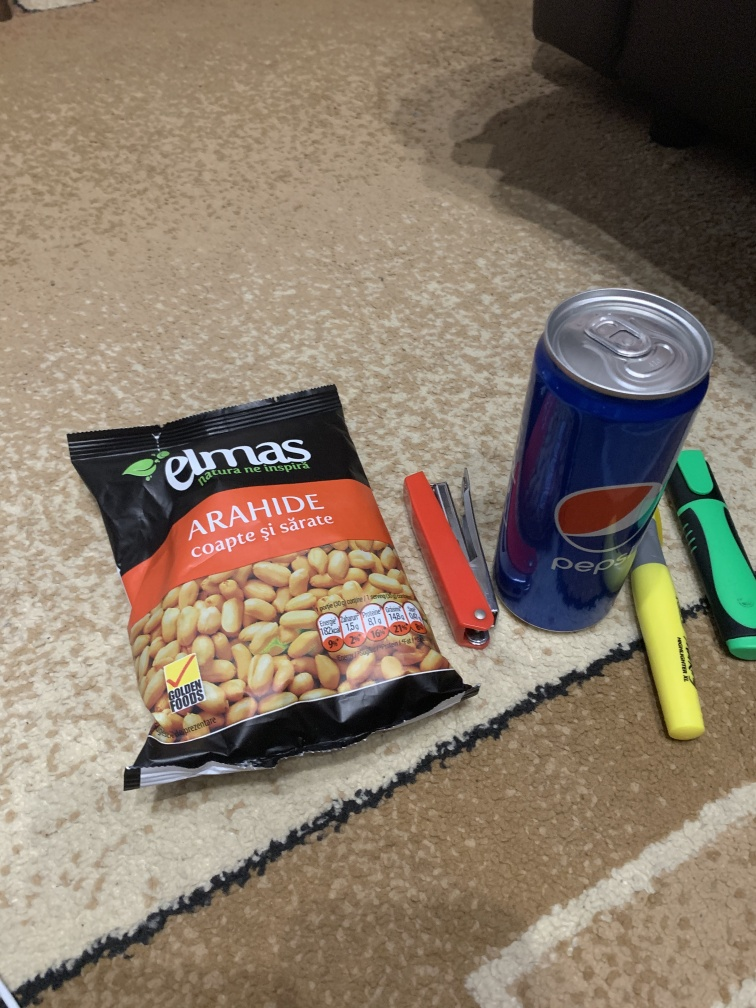peanuts: (62, 380, 488, 796)
pepsi: (490, 282, 717, 665)
